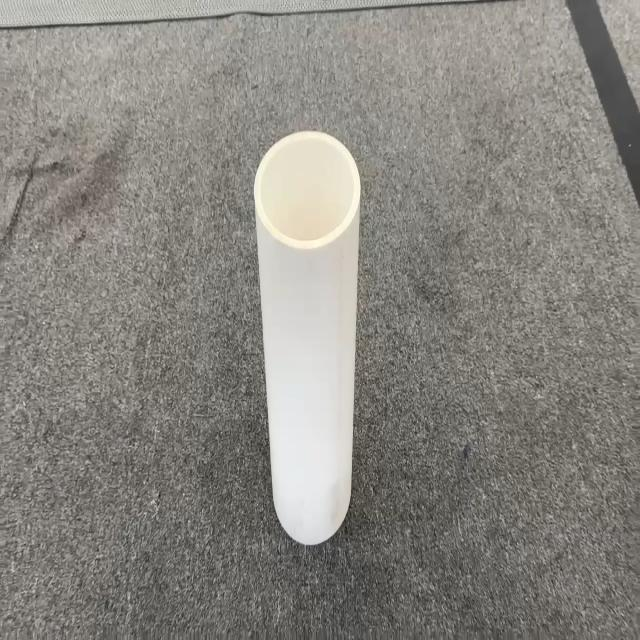coral: (252, 128, 362, 545)
